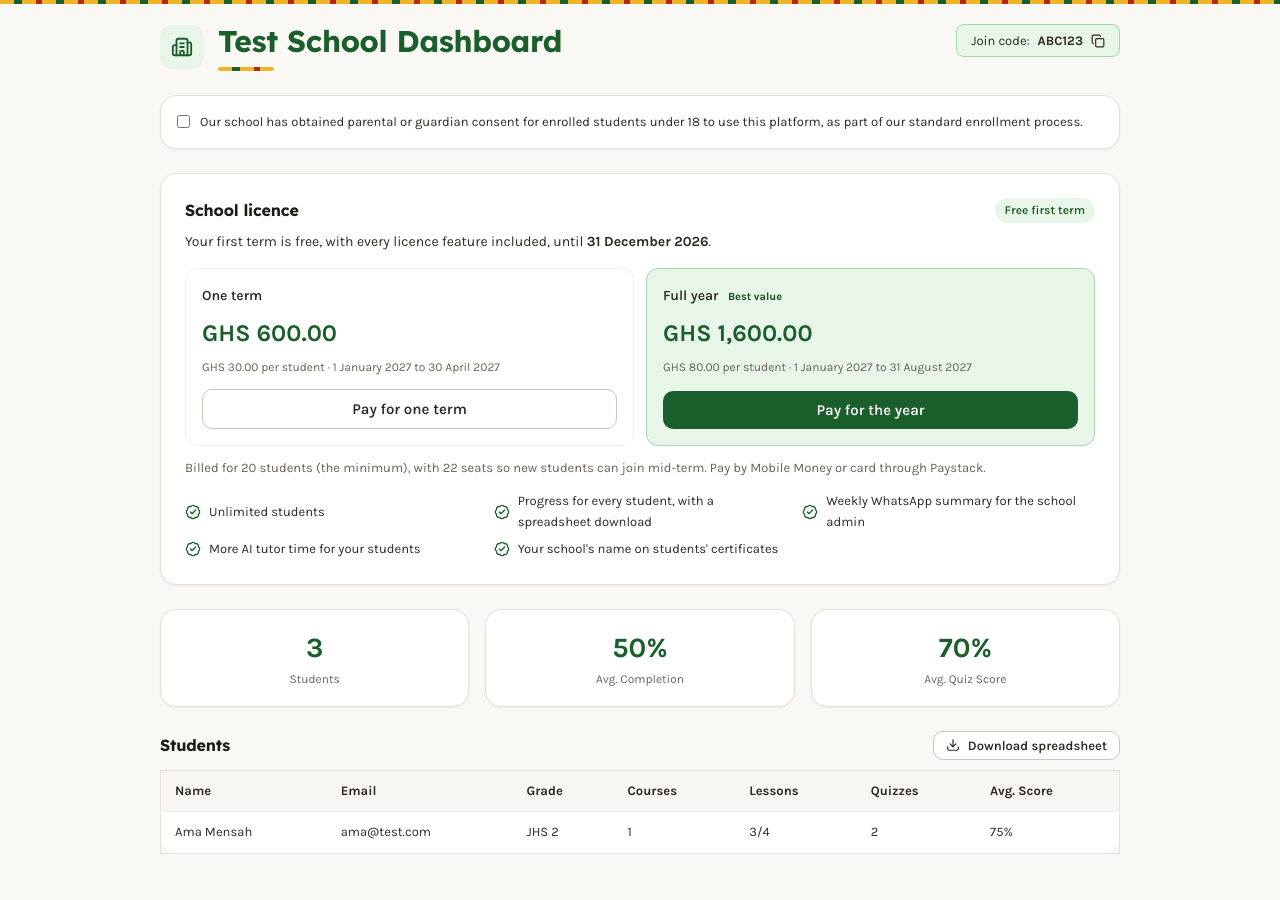
Test: SchoolAdminDashboard - licence › shows an inline error when initialize fails instead of navigating anywhere
Step 1. Click the button "Pay for one term" → (410, 410), box top-left (202, 390), bottom-right (617, 430)
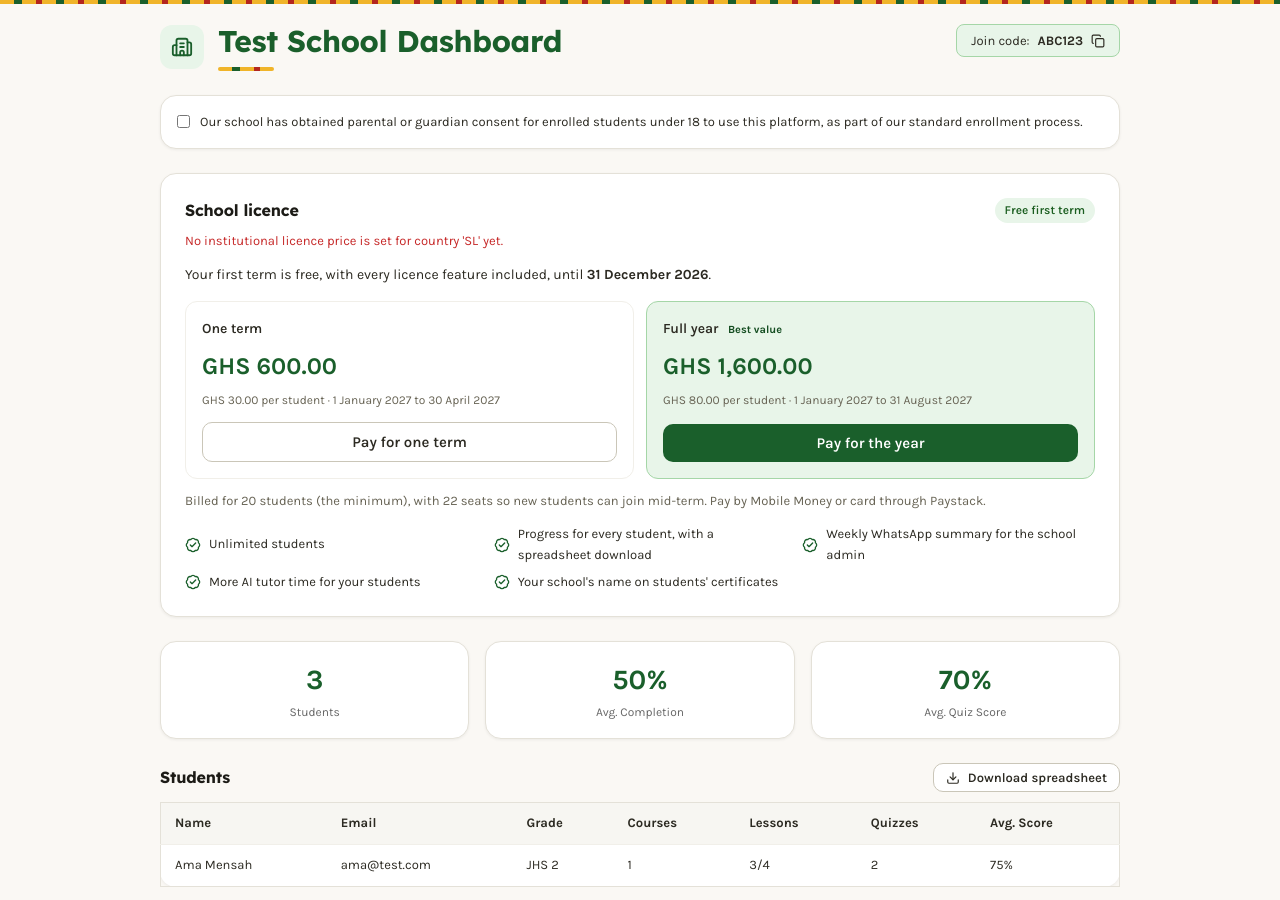
Expected: the text "No institutional licence price is set for country 'SL' yet." is shown, top-left (185, 234), bottom-right (503, 248)
